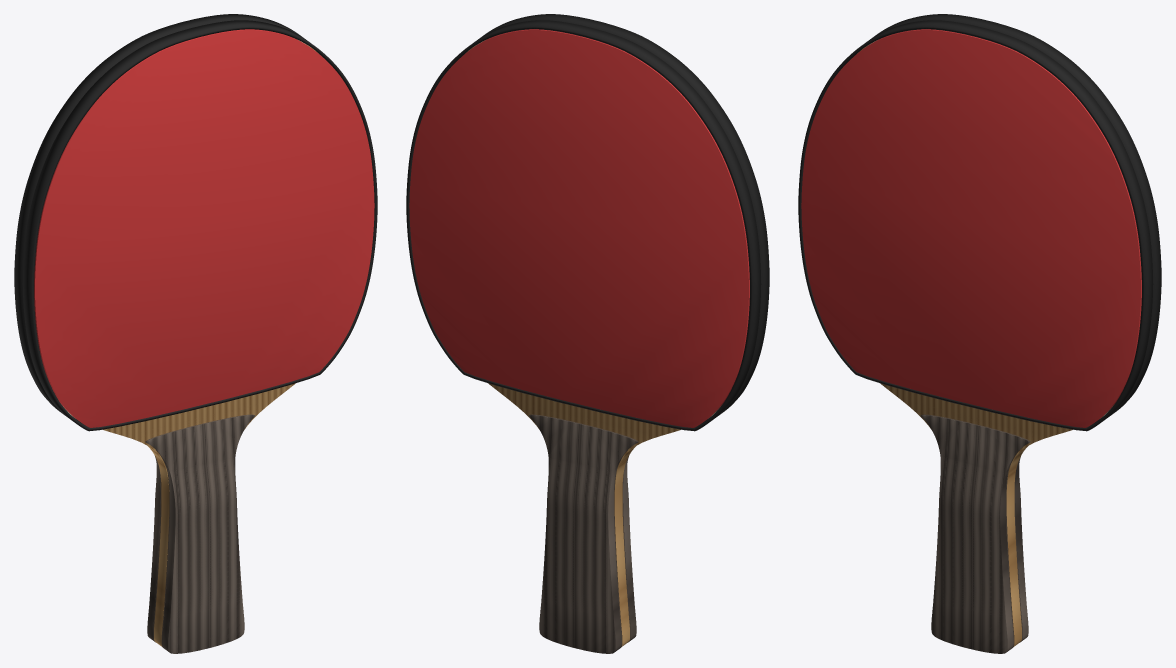
File: Paddle.fbx
3 renders of one model, left to right at view 1: azimuth 30°, elevation 25°; view 2: azimuth 150°, elevation 25°; view 3: azimuth 330°, elevation 25°, orthographic.
Parts seen in each view (by area): view 1: Paddle; view 2: Paddle; view 3: Paddle.
Part boxes in pixels (<box>): Paddle: <box>14,14,377,653</box>; Paddle: <box>406,14,769,653</box>; Paddle: <box>798,14,1161,653</box>.
Bounding box in the file's own units: 0.1532 × 0.2597 × 0.016.
Materials: 6 (2 with a texture image).
